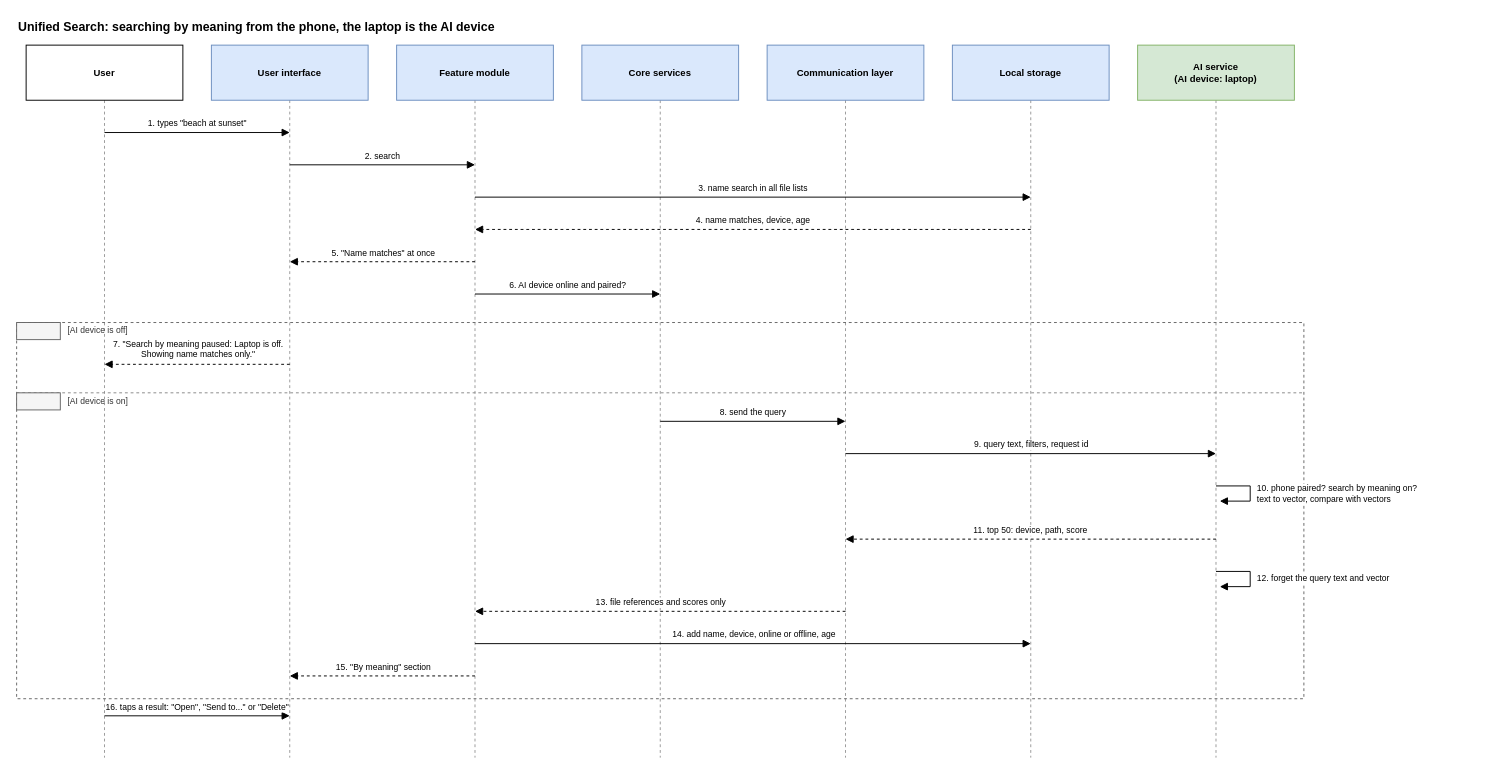
The diagram is 1502 pixels wide and 775 high, and some of its shapes have lost their labels. Each missing label, with the box of its shape:
alt: (16, 322, 60, 340)
else: (16, 392, 60, 410)
